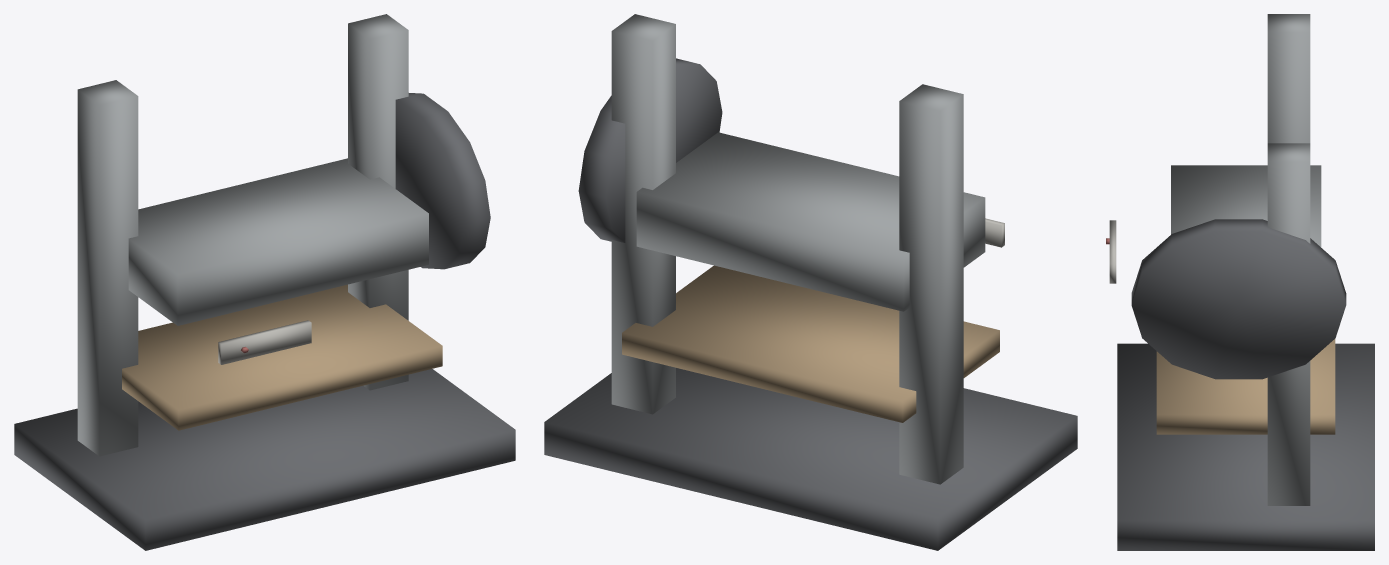
File: letterpress_silhouette__squat.glb
3 renders of one model, left to right at view 1: azimuth 30°, elevation 25°; view 2: azimuth 150°, elevation 25°; view 3: azimuth 270°, elevation 25°, orthographic. The views are drawn at different scales.
Parts seen in each view (by area): view 1: world; view 2: world; view 3: world.
Part boxes in pixels (x1=…): world: x1=14, y1=14, x2=515, y2=550; world: x1=544, y1=14, x2=1077, y2=550; world: x1=1106, y1=14, x2=1374, y2=550.
Bounding box in the file's own units: 1.26 × 1.25 × 0.8111.
